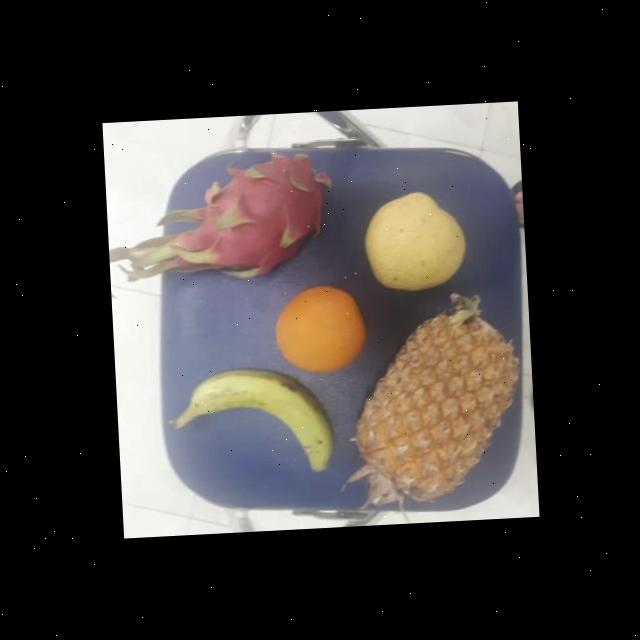banana: (178, 367, 332, 470)
orange: (272, 282, 364, 378)
pear: (358, 189, 468, 297)
pineapple: (352, 306, 522, 512)
pitaya: (156, 148, 335, 286)
